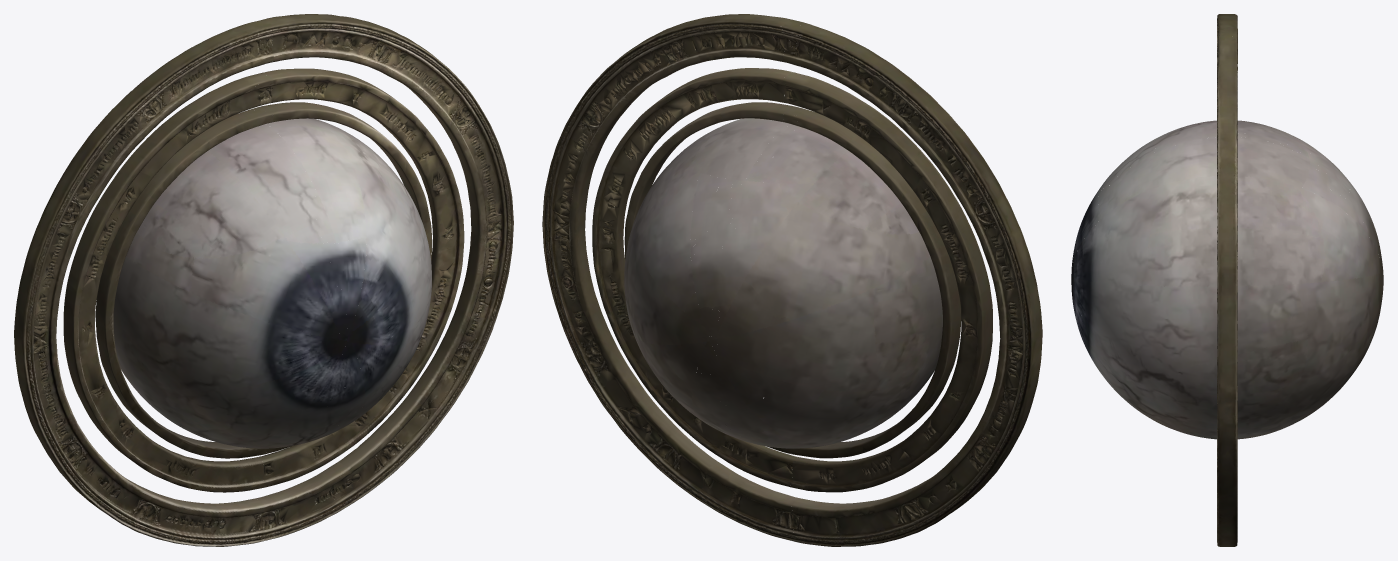
The model's file is eye-final.glb.
3 renders of one model, left to right at view 1: azimuth 30°, elevation 25°; view 2: azimuth 150°, elevation 25°; view 3: azimuth 270°, elevation 25°, orthographic. The views are drawn at different scales.
Visible parts, largest first — view 1: tripo_node_f4dbeca5-15ec-4f6f-9832-4202d055c1a2; view 2: tripo_node_f4dbeca5-15ec-4f6f-9832-4202d055c1a2; view 3: tripo_node_f4dbeca5-15ec-4f6f-9832-4202d055c1a2.
Boxes of the visible parts, x1,y1,x2,y2 form: tripo_node_f4dbeca5-15ec-4f6f-9832-4202d055c1a2: (14,14,513,546); tripo_node_f4dbeca5-15ec-4f6f-9832-4202d055c1a2: (542,14,1042,546); tripo_node_f4dbeca5-15ec-4f6f-9832-4202d055c1a2: (1071,14,1383,546).
Bounding box in the file's own units: 0.9798 × 0.978 × 0.5716.
1 material, 1 textured.
